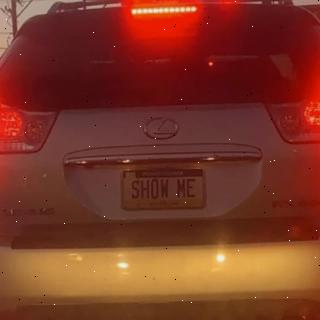license: (120, 168, 207, 212)
